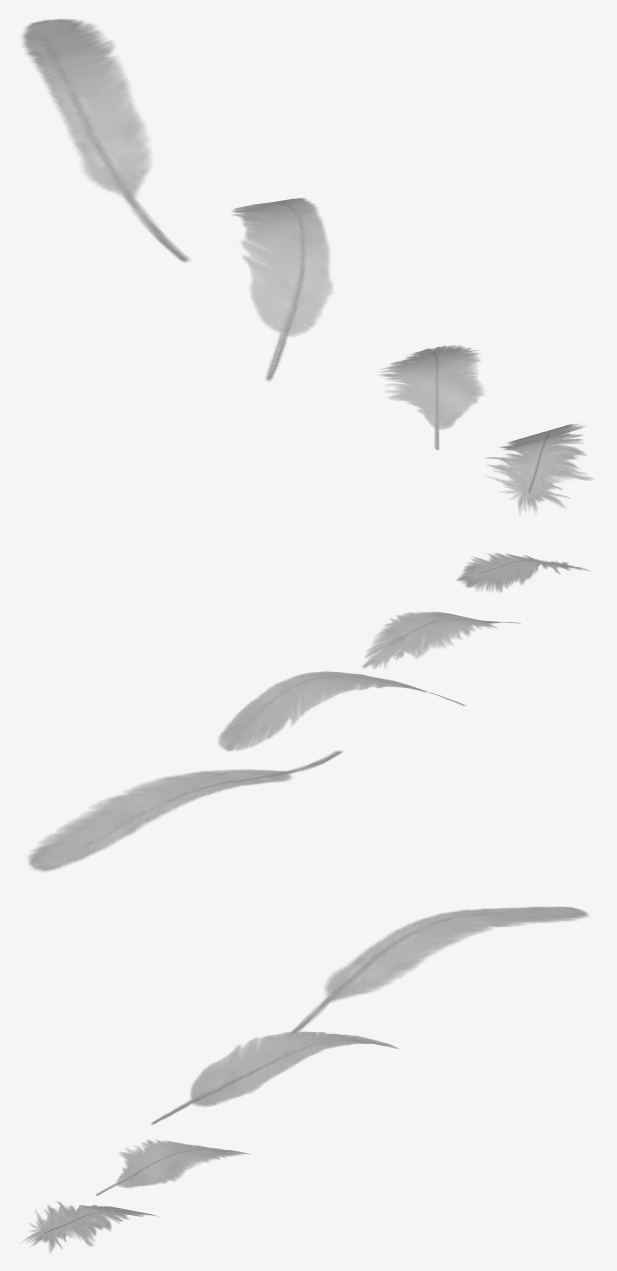
Rendered from owl_feathers.glb.
The picture shows the model from 3 angles, top to bottom: view 1: azimuth 30°, elevation 25°; view 2: azimuth 150°, elevation 25°; view 3: azimuth 330°, elevation 25°; orthographic projection. The views are drawn at different scales.
Visible parts, largest first — view 1: feather_1_A.002_feather_1_0, feather_2.002_feather_2_0, feather_3.002_feather_3_0, feather_4.002_feather_4_0; view 2: feather_1_A.002_feather_1_0, feather_2.002_feather_2_0, feather_3.002_feather_3_0, feather_4.002_feather_4_0; view 3: feather_1_A.002_feather_1_0, feather_2.002_feather_2_0, feather_3.002_feather_3_0, feather_4.002_feather_4_0.
Part boxes in pixels (x1=…): feather_1_A.002_feather_1_0: x1=21, y1=19, x2=190, y2=262; feather_2.002_feather_2_0: x1=231, y1=198, x2=333, y2=380; feather_3.002_feather_3_0: x1=379, y1=345, x2=484, y2=449; feather_4.002_feather_4_0: x1=484, y1=424, x2=593, y2=515; feather_1_A.002_feather_1_0: x1=28, y1=750, x2=342, y2=872; feather_2.002_feather_2_0: x1=218, y1=671, x2=465, y2=751; feather_3.002_feather_3_0: x1=362, y1=612, x2=520, y2=669; feather_4.002_feather_4_0: x1=456, y1=553, x2=590, y2=592; feather_1_A.002_feather_1_0: x1=291, y1=906, x2=588, y2=1033; feather_2.002_feather_2_0: x1=151, y1=1031, x2=398, y2=1124; feather_3.002_feather_3_0: x1=96, y1=1139, x2=250, y2=1195; feather_4.002_feather_4_0: x1=21, y1=1201, x2=158, y2=1253.
Bounding box in the file's own units: 0.1487 × 0.0534 × 0.8057.
4 materials, 4 textured.
